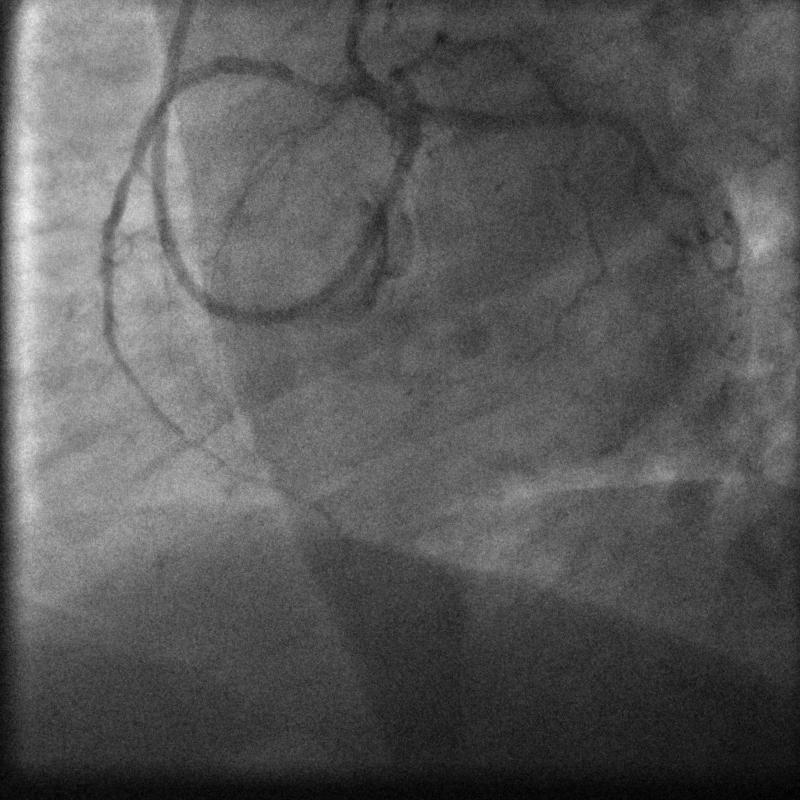Stenosis: (290, 62, 342, 105)
